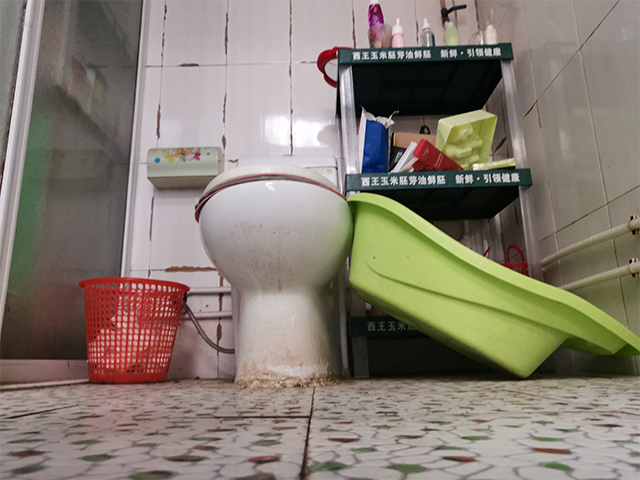closestool: (193, 156, 357, 391)
trashcan: (77, 275, 191, 385)
